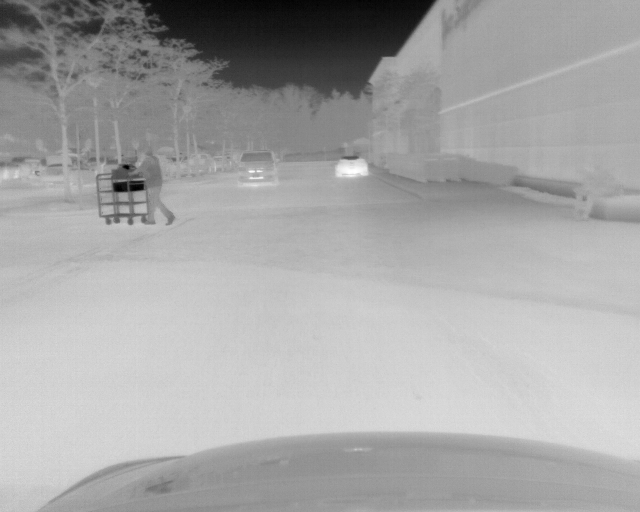car: (235, 149, 277, 187), (333, 155, 368, 178), (186, 151, 211, 176), (212, 153, 233, 173)
people: (133, 145, 178, 227), (570, 162, 627, 222)
